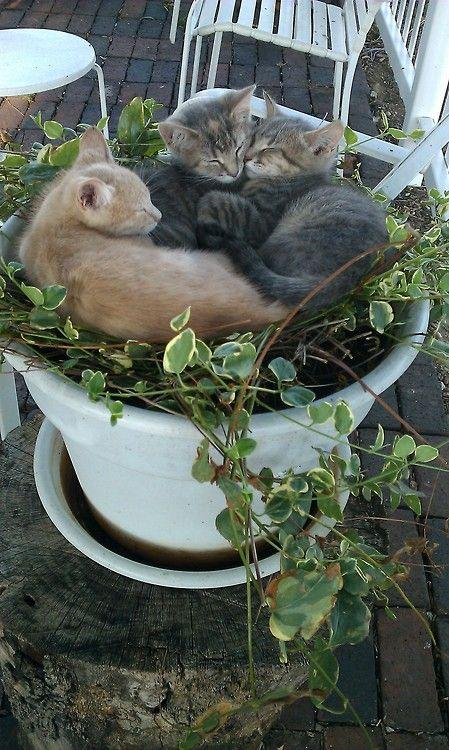kedo: (153, 85, 256, 185)
